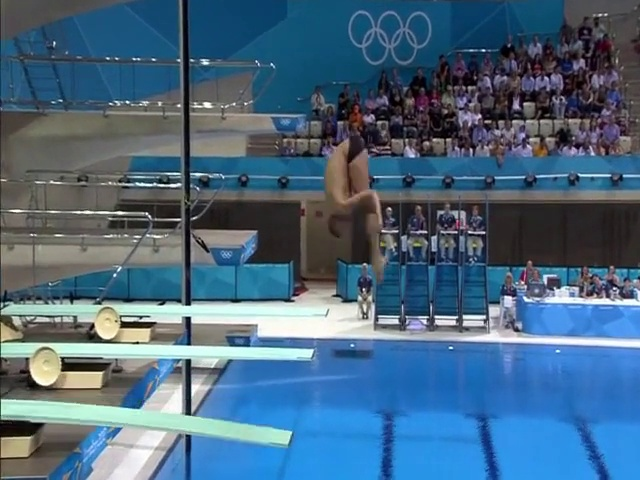diver: (323, 134, 387, 282)
